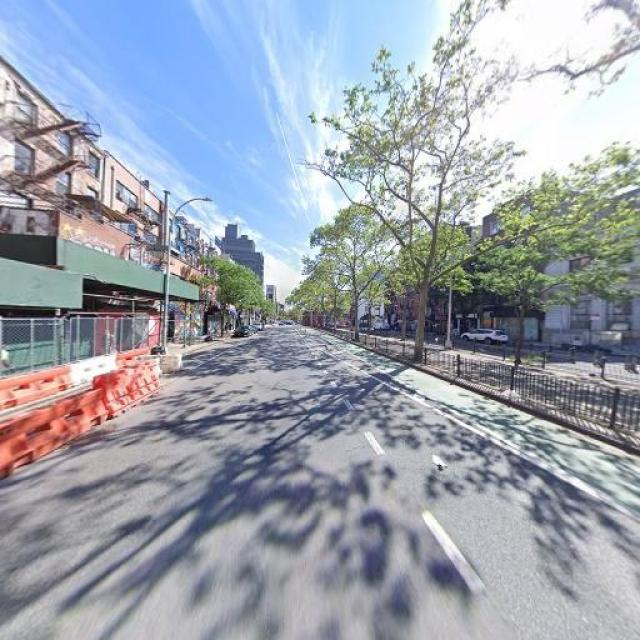Building: (52, 189, 202, 358), (545, 220, 640, 355), (485, 188, 539, 344), (430, 260, 482, 339), (399, 235, 427, 334), (205, 277, 234, 332), (387, 275, 397, 330)
